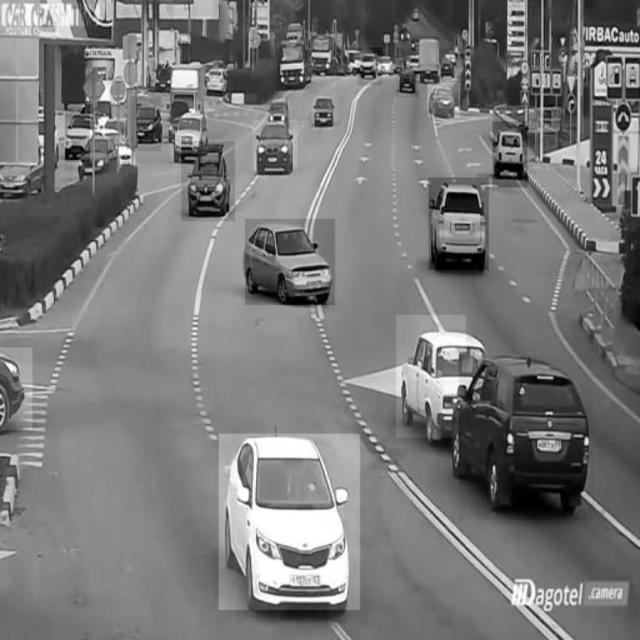vehicle: (219, 434, 360, 610), (459, 355, 593, 520), (396, 315, 466, 437), (245, 219, 335, 305), (429, 178, 489, 270), (182, 142, 236, 222), (72, 126, 120, 184), (1, 348, 33, 430), (253, 119, 298, 175), (493, 122, 528, 188), (171, 101, 208, 162), (275, 39, 311, 89), (132, 96, 162, 151), (65, 104, 91, 162), (428, 83, 460, 119), (358, 49, 383, 86), (313, 94, 338, 129), (397, 61, 419, 98), (207, 64, 229, 98)
